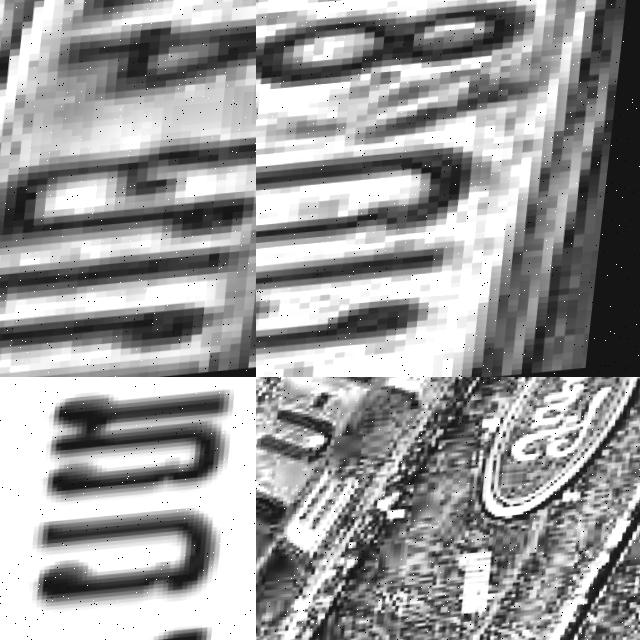license-plate: (256, 0, 640, 377), (0, 0, 256, 377), (0, 377, 256, 640), (256, 377, 514, 546)
